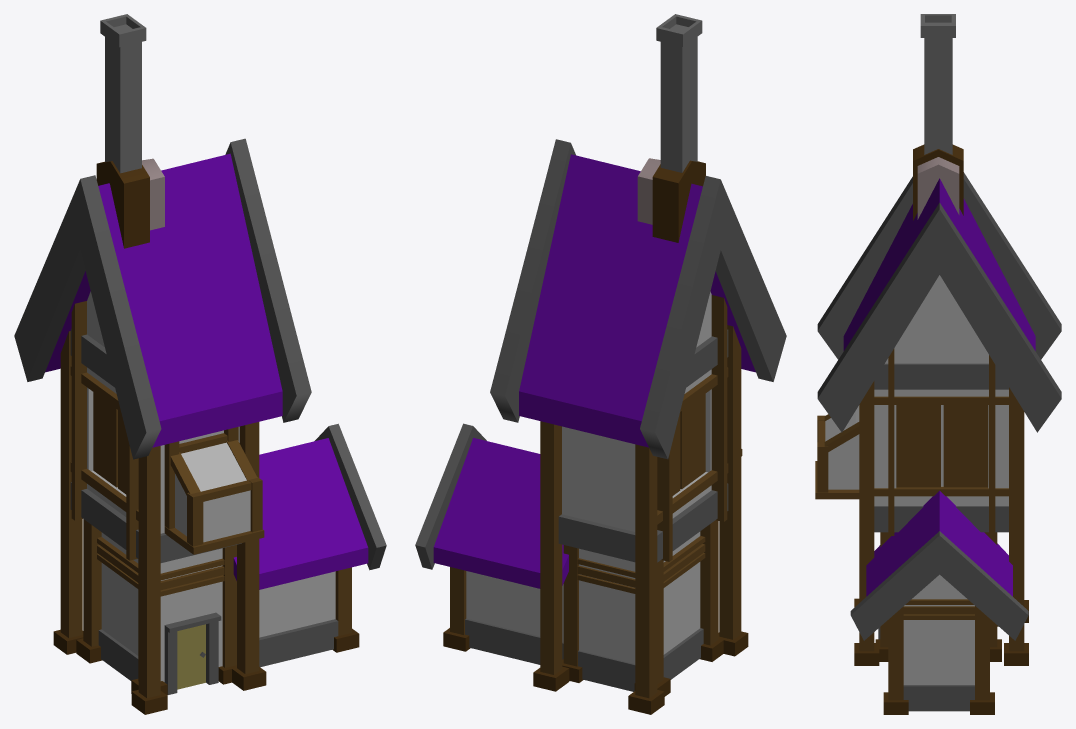
The model's file is Mesh_Royal_Thin_hos.fbx.
3 views of the same model, side by side, from view 1: azimuth 30°, elevation 25°; view 2: azimuth 150°, elevation 25°; view 3: azimuth 270°, elevation 25° (orthographic). The views are drawn at different scales.
Visible parts, largest first — view 1: Royal_Thin_hos; view 2: Royal_Thin_hos; view 3: Royal_Thin_hos.
Part boxes in pixels (<box>): Royal_Thin_hos: <box>14,14,386,714</box>; Royal_Thin_hos: <box>415,14,786,714</box>; Royal_Thin_hos: <box>815,14,1061,714</box>.
Size of the model in its own units: 898 by 2164 by 803.
